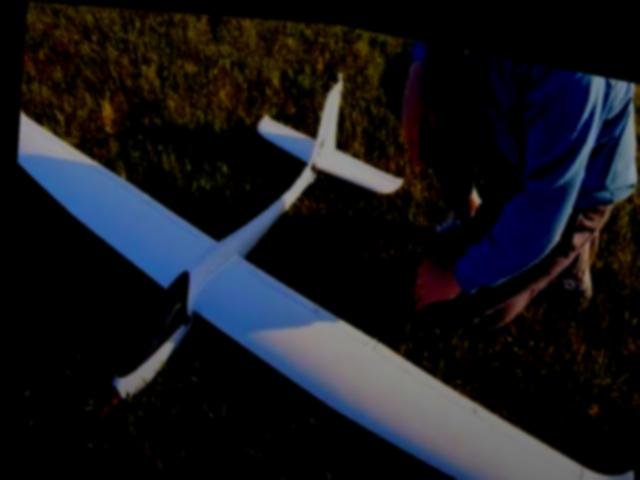iha: (1, 12, 640, 480)
